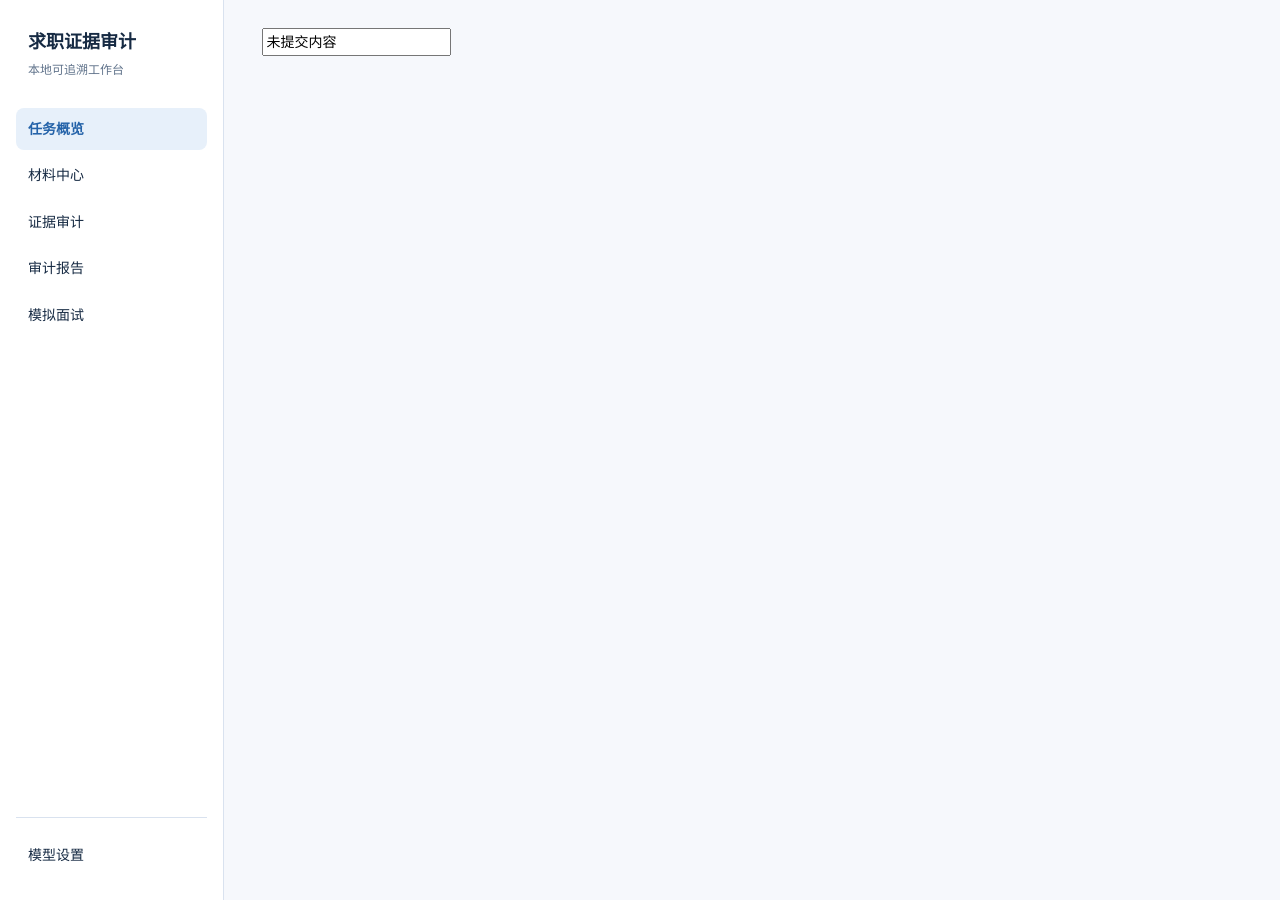
Test: 打开设置仅GET安全状态，密钥留空，不卸载当前页面；关闭后恢复焦点
The width and height of the screenshot is (1280, 900).
Click the button "模型设置" at (112, 855), box [16, 834, 207, 876]
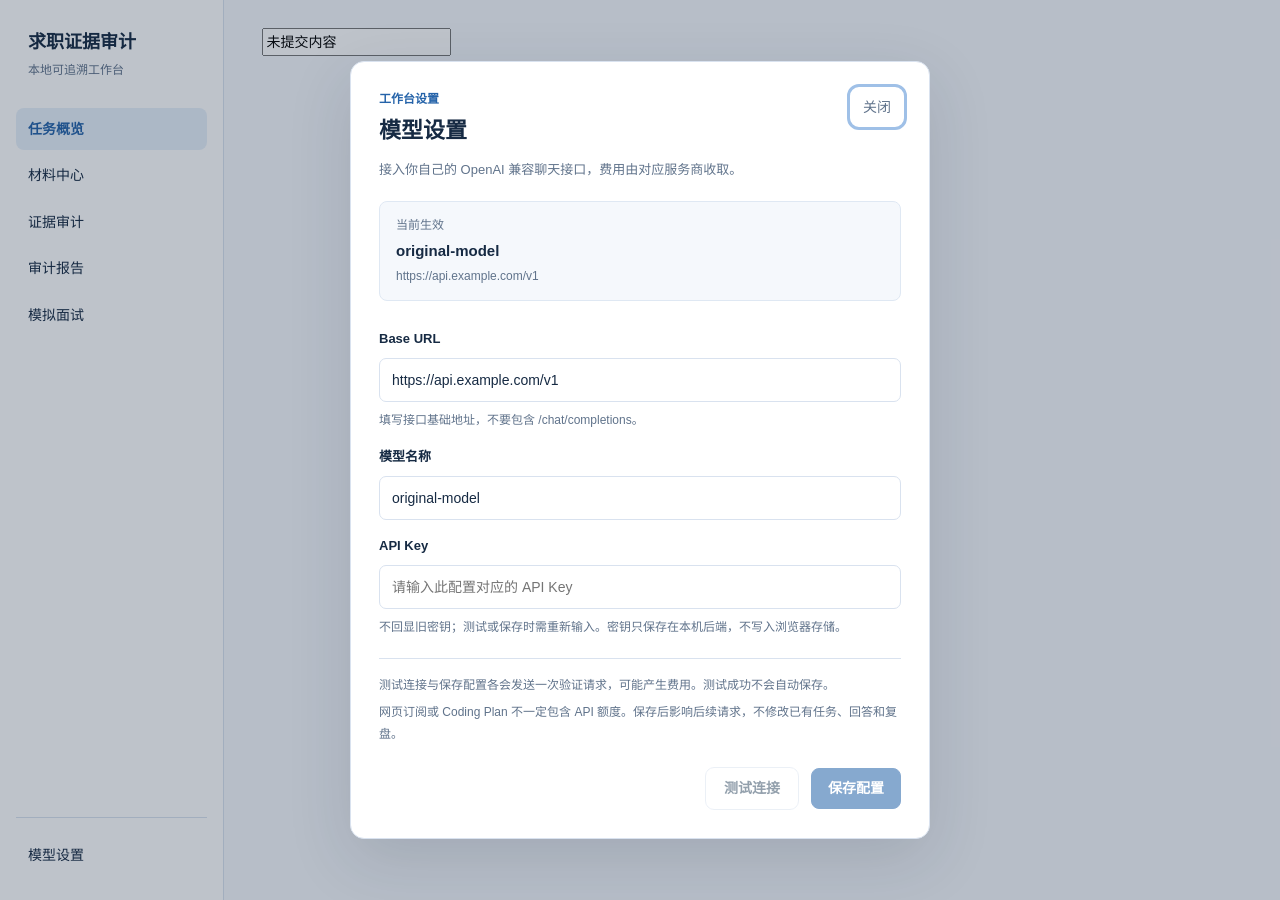
Result: the field showing "https://api.example.com/v1" is shown at [379, 358, 901, 402]
Result: the password field labelled "API Key" is empty at [379, 565, 901, 609]
Result: the text "测试连接与保存配置各会发送一次验证请求，可能产生费用。测试成功不会自动保存。" is shown at [379, 674, 901, 696]
Press Escape in the dialog "模型设置", box [350, 61, 930, 839]
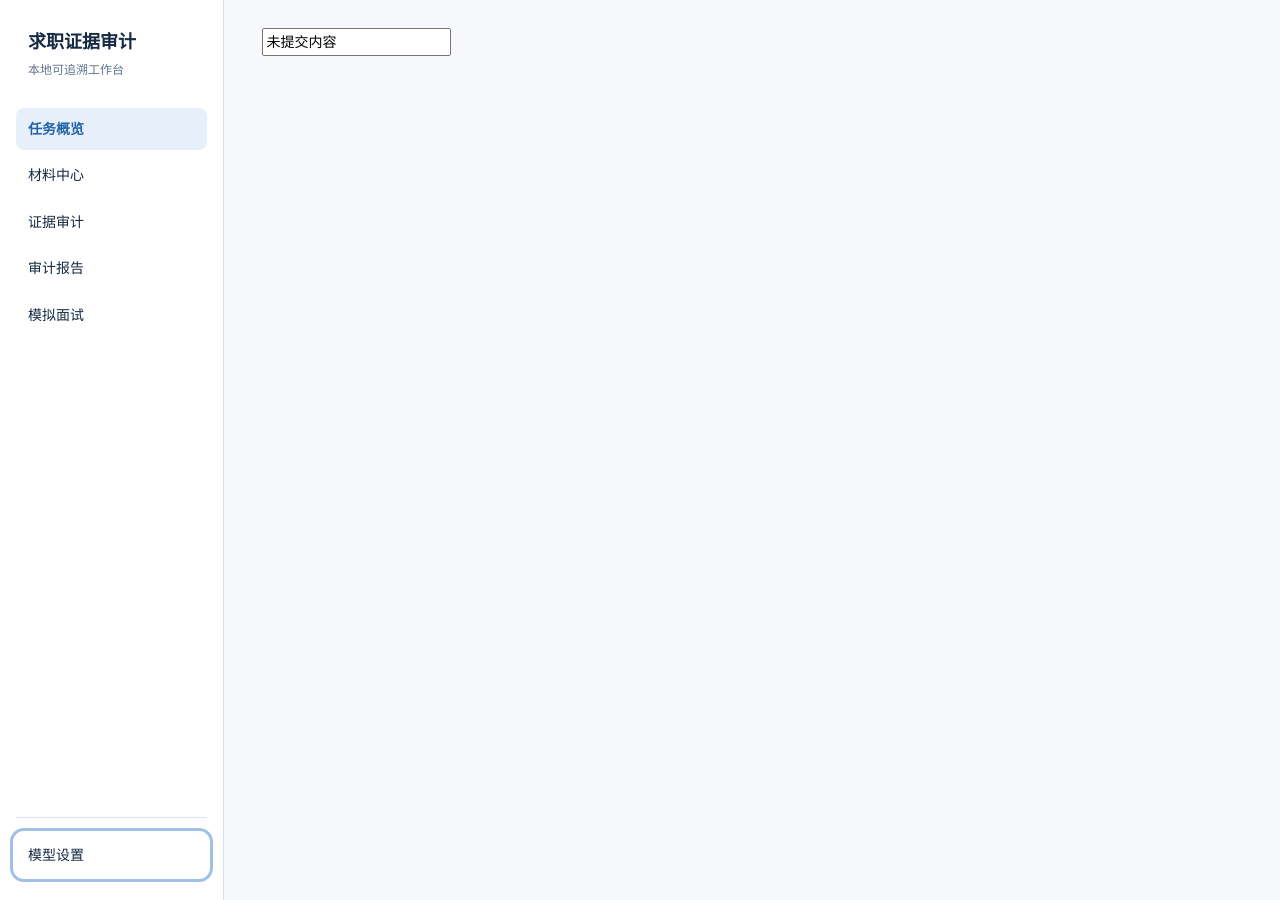
Expected: the field named "当前页面草稿" holds "未提交内容", [262, 28, 451, 56]
Result: the dialog is gone
